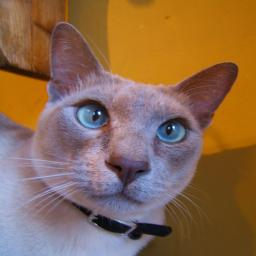catnose: (105, 152, 151, 186)
